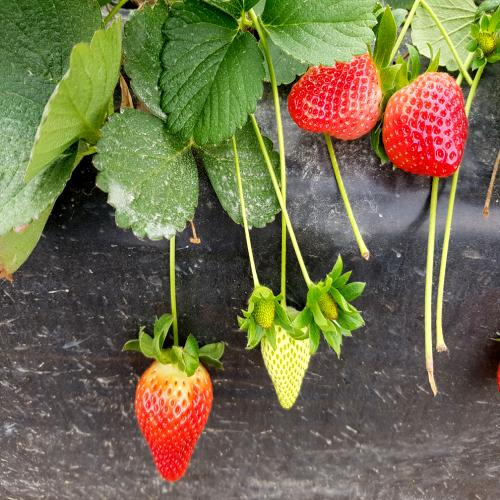ripe: (284, 47, 385, 148), (389, 58, 470, 178), (138, 350, 211, 472)
unripe: (255, 302, 322, 412)
